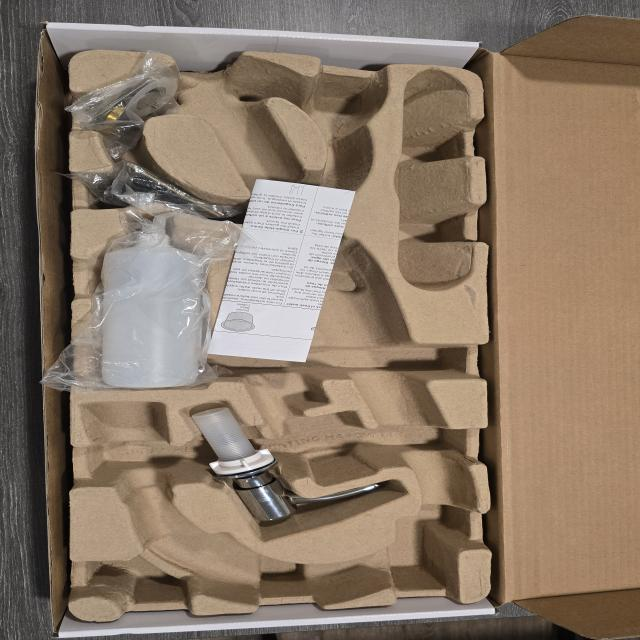1m: (84, 54, 474, 606)
2: (186, 407, 379, 522)
3: (102, 216, 211, 390)
4m: (392, 69, 471, 292)
5m: (303, 80, 384, 135)
6: (65, 49, 183, 159)
7: (62, 160, 239, 219)
8: (206, 177, 357, 362)
